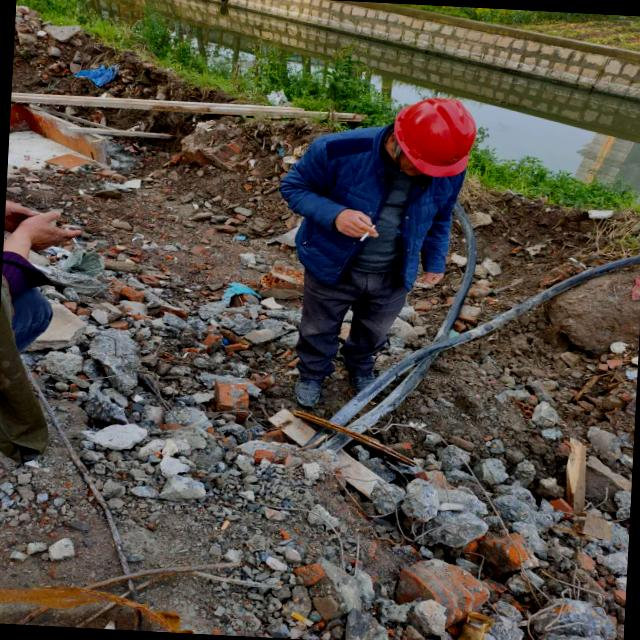cigarette: (358, 221, 379, 250)
